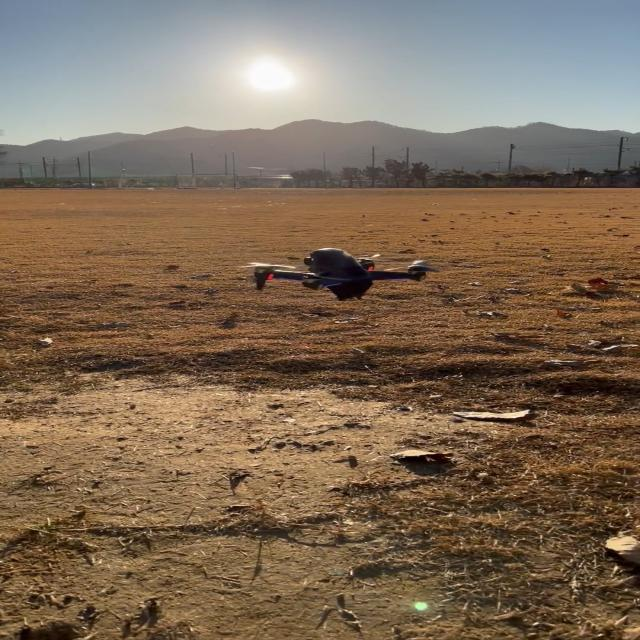drone: (238, 247, 440, 301)
